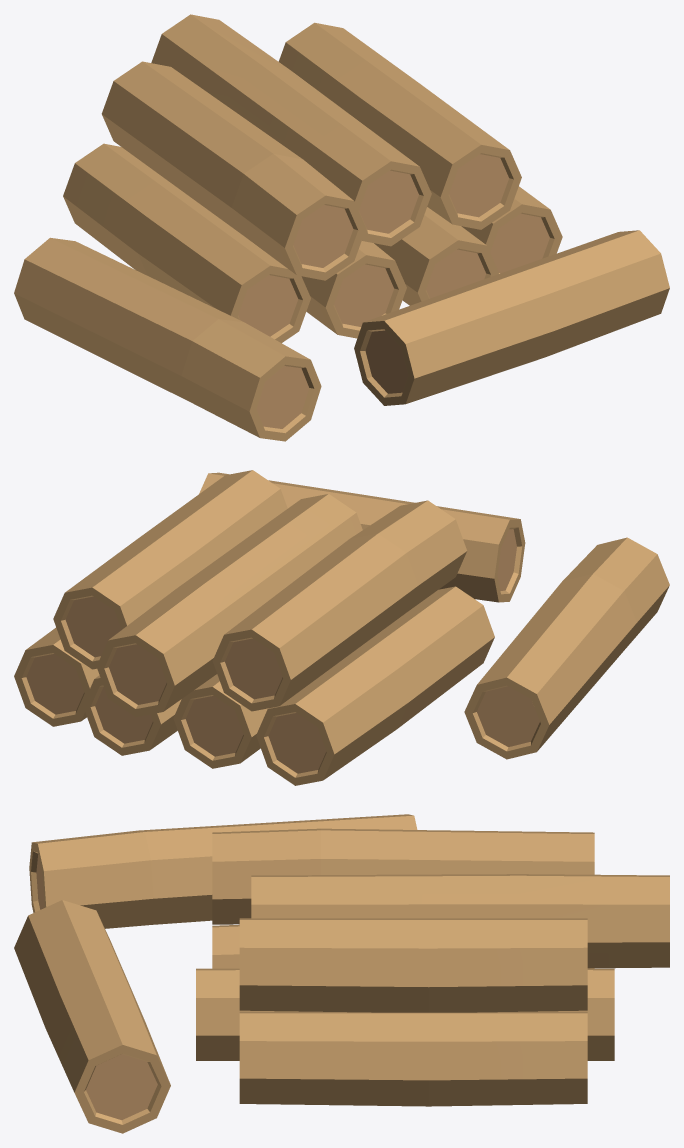
Rendered from timber_a_972.gltf.
3 views of the same model, one above another, from view 1: azimuth 30°, elevation 25°; view 2: azimuth 150°, elevation 25°; view 3: azimuth 270°, elevation 25° (orthographic). The views are drawn at different scales.
Visible parts, largest first — view 1: timber_a002; view 2: timber_a002; view 3: timber_a002.
Boxes of the visible parts, box(x1,y1,x2,y2) form: timber_a002: box(14, 14, 669, 441); timber_a002: box(14, 470, 669, 785); timber_a002: box(14, 814, 669, 1133).
Bounding box in the file's own units: 0.8581 × 0.2652 × 0.9396.
1 material, 1 textured.
